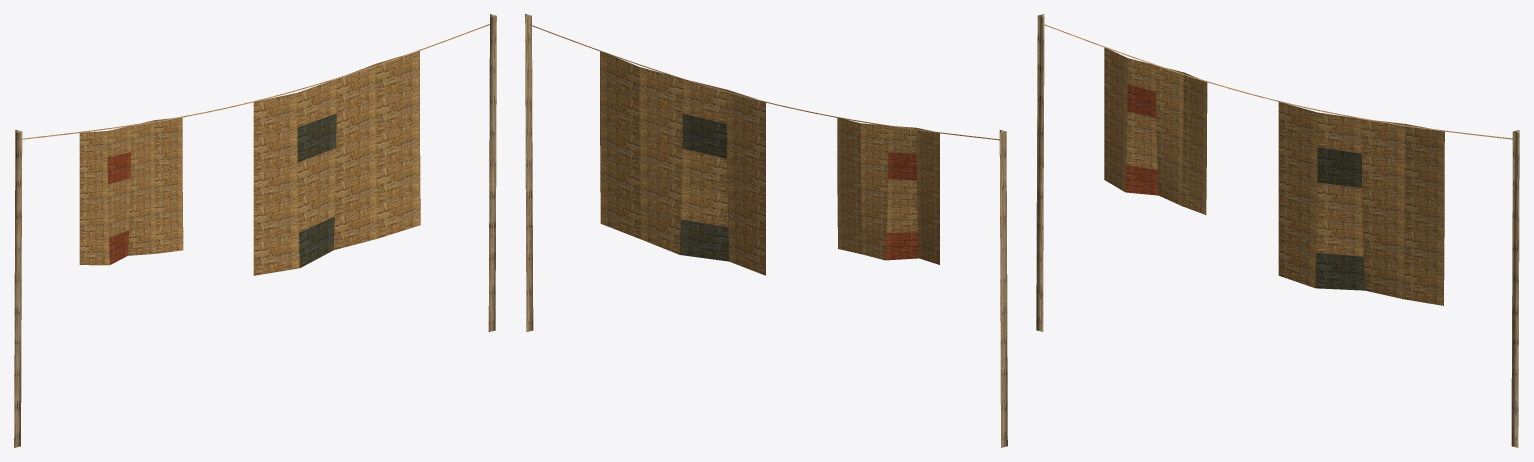
Rendered from prop_clothesline_lod2.glb.
The picture shows the model from 3 angles, left to right: view 1: azimuth 30°, elevation 25°; view 2: azimuth 150°, elevation 25°; view 3: azimuth 330°, elevation 25°; orthographic projection.
Parts seen in each view (by area): view 1: prop_clothesline; view 2: prop_clothesline; view 3: prop_clothesline.
Boxes of the visible parts, <box> form: prop_clothesline: <box>14,14,496,447</box>; prop_clothesline: <box>525,14,1007,447</box>; prop_clothesline: <box>1036,14,1519,447</box>.
Size of the model in its own units: 3.05 by 1.9 by 0.0851.
Materials: 5 (5 with a texture image).
